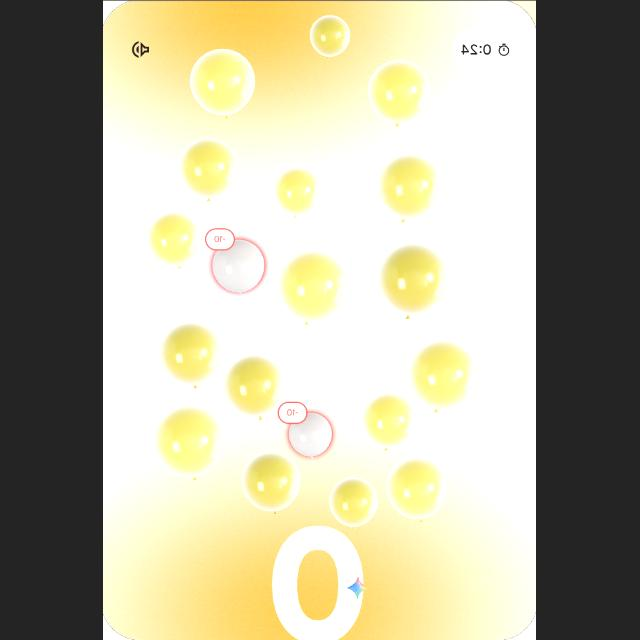gemini: (348, 574, 368, 600)
hazard: (202, 228, 268, 298), (278, 401, 338, 462)
safe: (382, 242, 451, 316), (155, 406, 225, 478), (280, 250, 348, 322), (412, 340, 478, 410), (192, 48, 256, 116), (380, 154, 442, 220), (368, 61, 428, 127), (160, 324, 222, 386), (388, 457, 448, 521), (180, 137, 240, 199), (226, 355, 284, 417), (244, 451, 302, 513), (147, 211, 201, 267), (366, 393, 418, 449), (330, 477, 380, 529), (275, 168, 321, 216), (310, 14, 352, 58)
